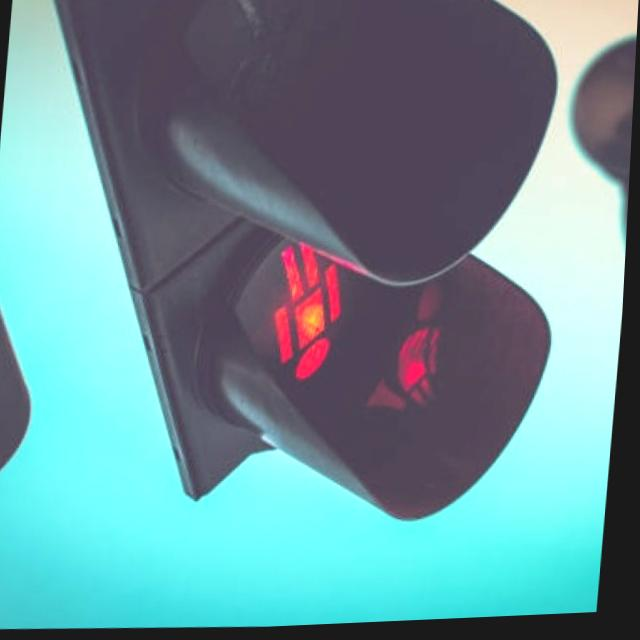red_light: (249, 232, 390, 403)
